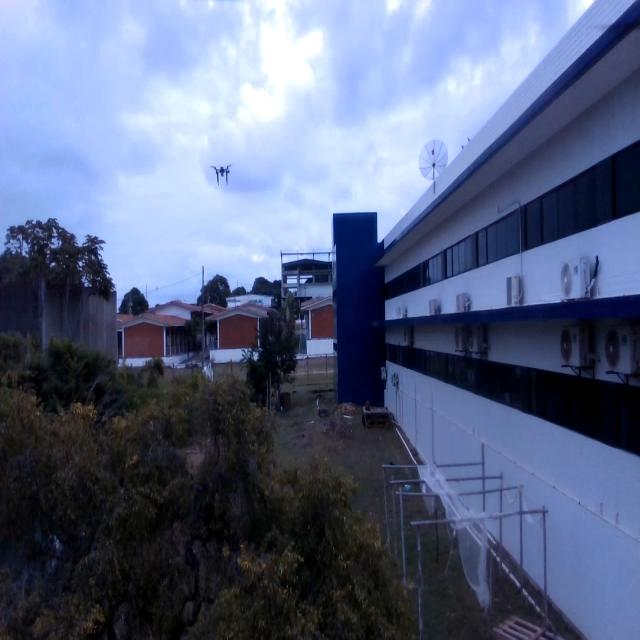-uav-: (202, 148, 242, 196)
